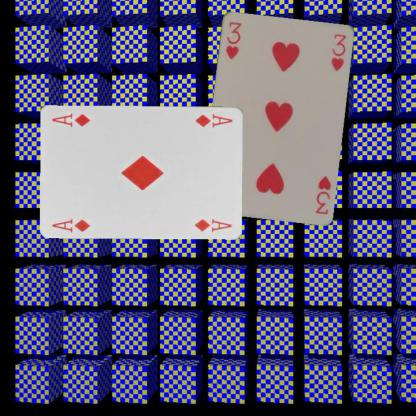3h: (312, 172, 332, 216), (223, 19, 243, 60)
Ad: (192, 111, 234, 129), (50, 216, 91, 234)
